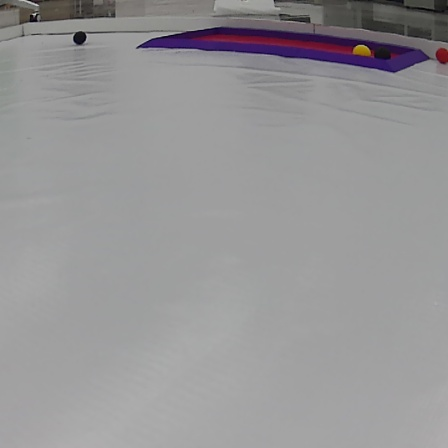black: (71, 29, 89, 47), (375, 44, 393, 62)
red: (435, 45, 448, 66)
red_aim: (143, 26, 424, 78)
yellow: (352, 43, 369, 58)
